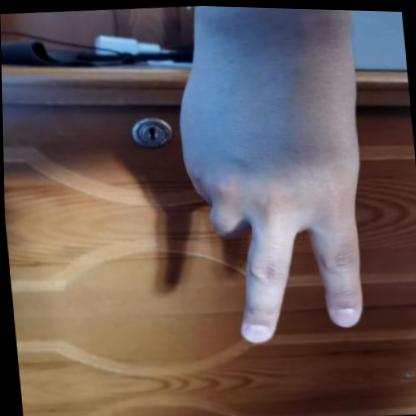N: (140, 3, 399, 367)
